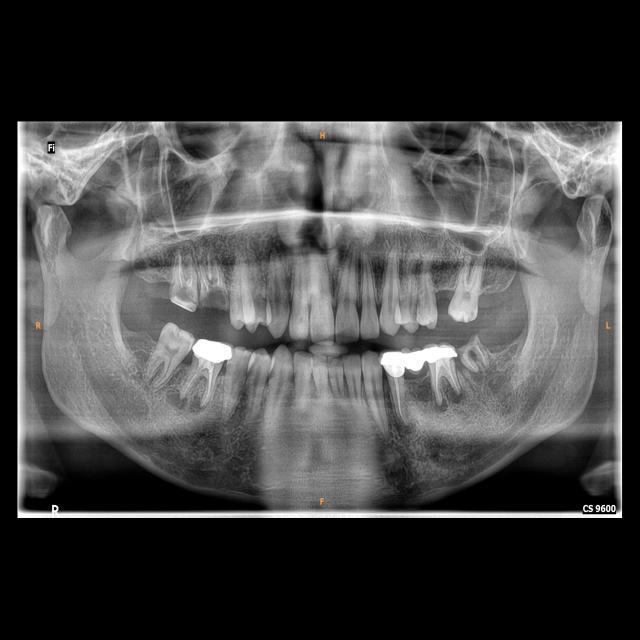dentin-curugu: (201, 288, 231, 313), (175, 287, 196, 304)
kanal-tedavisi: (182, 360, 217, 405), (434, 364, 460, 404), (173, 255, 196, 290), (197, 261, 225, 288), (392, 377, 408, 424), (474, 343, 491, 367), (463, 352, 478, 375)
kaplama: (192, 336, 234, 364), (380, 349, 408, 379), (425, 343, 458, 365)
kirik: (455, 332, 486, 357)
kopru: (398, 348, 436, 375)
